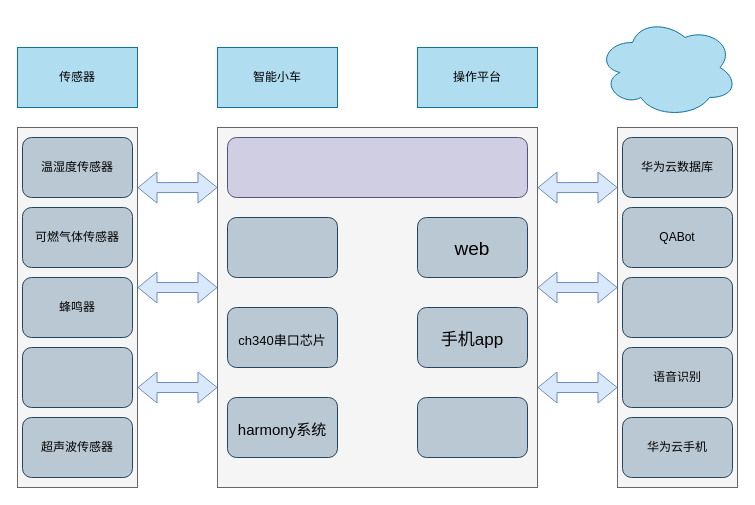
The diagram is 755 pixels wide and 505 high, and some of its shapes have lost their labels. Each missing label, with the box of its shape:
Harmony: (226, 136, 528, 198)
Hi3861主控芯片: (226, 216, 338, 278)
云端: (596, 16, 738, 118)
图像识别: (622, 276, 732, 338)
手表app: (416, 396, 528, 458)
环境监测板: (22, 346, 132, 408)
